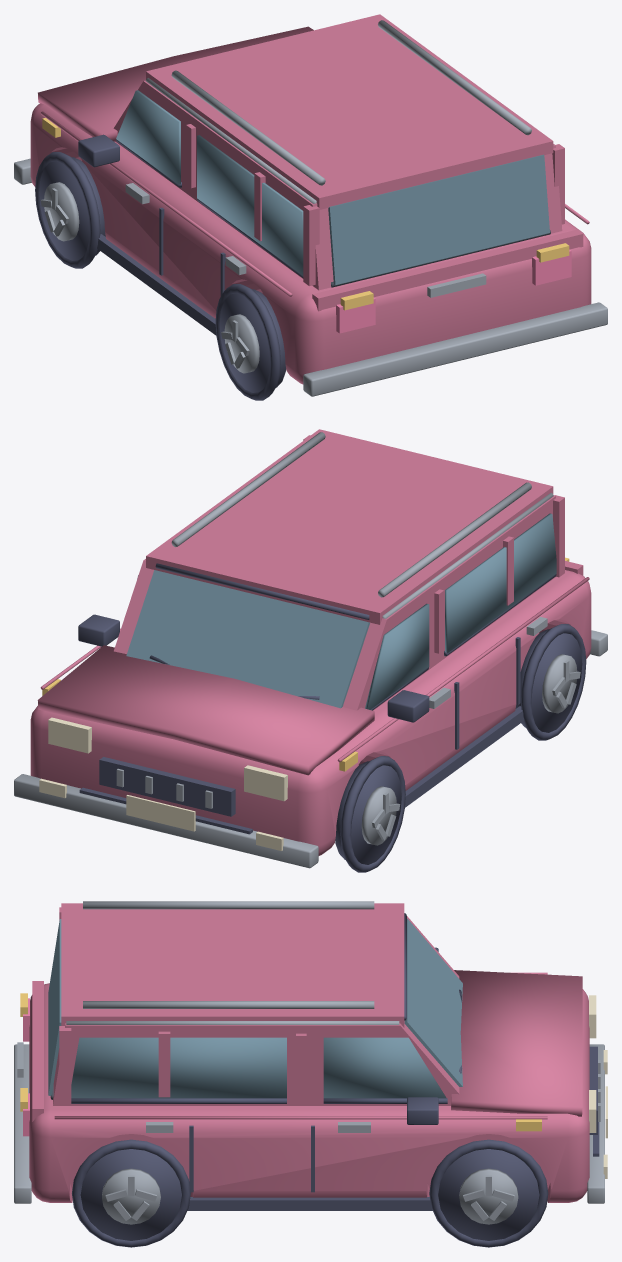
The model's file is FestivalCampCar.fbx.
3 views of the same model, one above another, from view 1: azimuth 30°, elevation 25°; view 2: azimuth 150°, elevation 25°; view 3: azimuth 270°, elevation 25° (orthographic).
Visible parts, largest first — view 1: FestivalCampCar PaintRose__PaintRose, FestivalCampCar AutoGlass__AutoGlass, FestivalCampCar Metal__Metal, FestivalCampCar Dark__Dark, FestivalCampCar Rose__Rose, FestivalCampCar Gold__Gold; view 2: FestivalCampCar PaintRose__PaintRose, FestivalCampCar AutoGlass__AutoGlass, FestivalCampCar Dark__Dark, FestivalCampCar Metal__Metal, FestivalCampCar Cream__Cream; view 3: FestivalCampCar PaintRose__PaintRose, FestivalCampCar AutoGlass__AutoGlass, FestivalCampCar Dark__Dark, FestivalCampCar Metal__Metal, FestivalCampCar Cream__Cream, FestivalCampCar Gold__Gold.
Part boxes in pixels (<box>): FestivalCampCar PaintRose__PaintRose: <box>30,14,591,384</box>; FestivalCampCar AutoGlass__AutoGlass: <box>116,90,549,285</box>; FestivalCampCar Metal__Metal: <box>14,20,607,396</box>; FestivalCampCar Dark__Dark: <box>35,134,303,400</box>; FestivalCampCar Rose__Rose: <box>336,249,571,333</box>; FestivalCampCar Gold__Gold: <box>42,118,569,310</box>; FestivalCampCar PaintRose__PaintRose: <box>30,429,591,855</box>; FestivalCampCar AutoGlass__AutoGlass: <box>126,513,556,709</box>; FestivalCampCar Dark__Dark: <box>78,563,586,872</box>; FestivalCampCar Metal__Metal: <box>14,432,607,868</box>; FestivalCampCar Cream__Cream: <box>39,717,287,850</box>; FestivalCampCar PaintRose__PaintRose: <box>29,903,589,1202</box>; FestivalCampCar AutoGlass__AutoGlass: <box>48,918,462,1098</box>; FestivalCampCar Dark__Dark: <box>71,913,599,1247</box>; FestivalCampCar Metal__Metal: <box>14,901,604,1224</box>; FestivalCampCar Cream__Cream: <box>589,995,607,1178</box>; FestivalCampCar Gold__Gold: <box>20,993,541,1131</box>.
Bounding box in the file's own units: 326 × 208 × 504.
